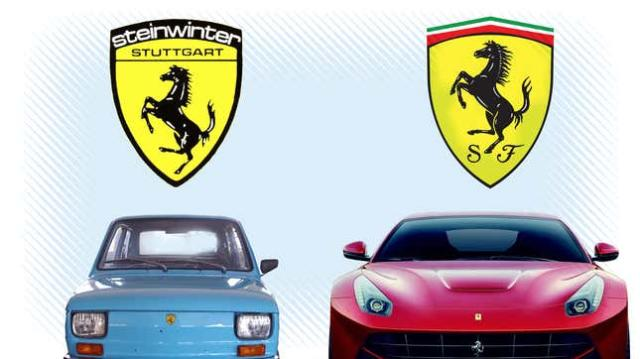ferrari: (328, 211, 632, 359), (64, 215, 278, 359)
